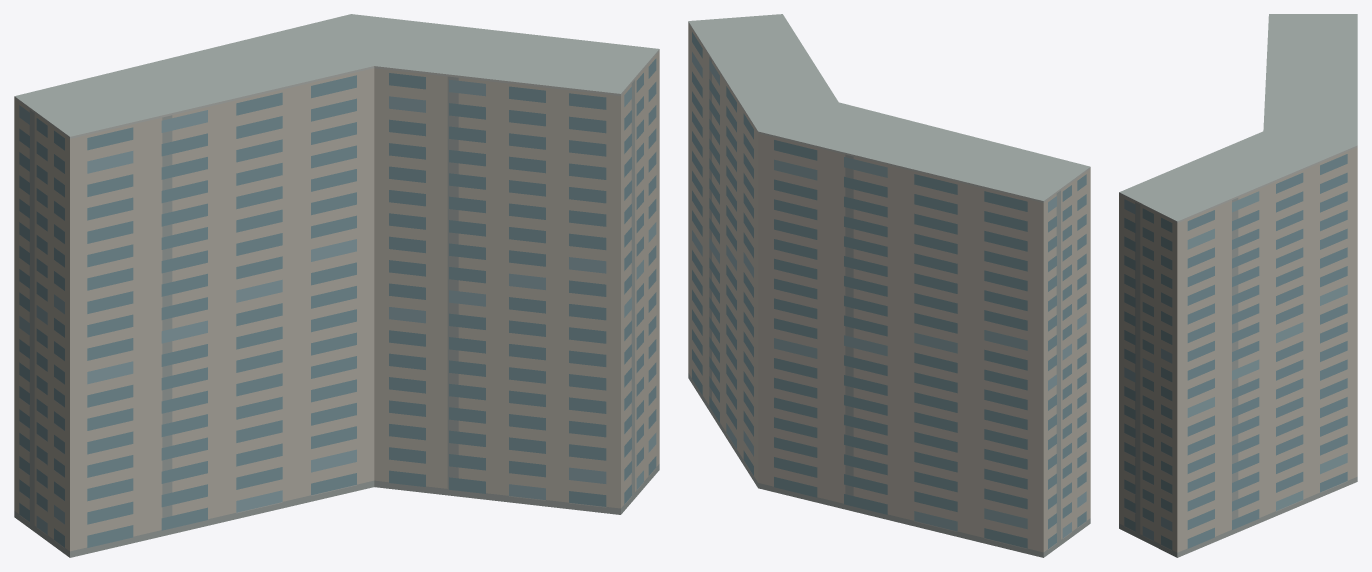
Rendered from residential-dff7d92e-a519-47a5-9085-95f23a0b9692.glb.
3 renders of one model, left to right at view 1: azimuth 30°, elevation 25°; view 2: azimuth 150°, elevation 25°; view 3: azimuth 270°, elevation 25°, orthographic. The views are drawn at different scales.
Parts seen in each view (by area): view 1: residential-dff7d92e-a519-47a5-9085-95f23a0b9692.tmp; view 2: residential-dff7d92e-a519-47a5-9085-95f23a0b9692.tmp; view 3: residential-dff7d92e-a519-47a5-9085-95f23a0b9692.tmp.
Boxes of the visible parts, <box> form: residential-dff7d92e-a519-47a5-9085-95f23a0b9692.tmp: <box>14,14,659,557</box>; residential-dff7d92e-a519-47a5-9085-95f23a0b9692.tmp: <box>688,14,1090,557</box>; residential-dff7d92e-a519-47a5-9085-95f23a0b9692.tmp: <box>1119,14,1357,557</box>.
Bounding box in the file's own units: 63.52 × 48 × 30.88.
